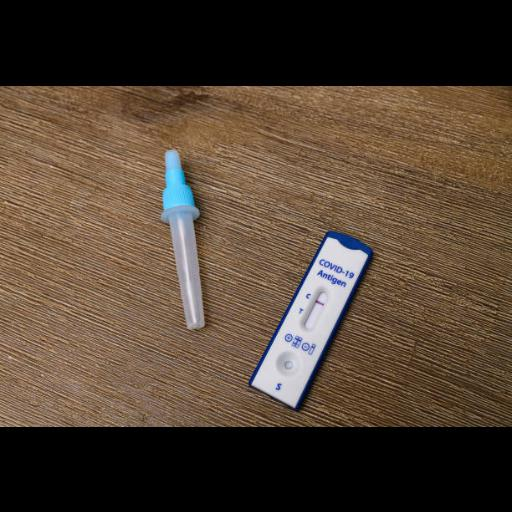Neg: (248, 229, 375, 408)
